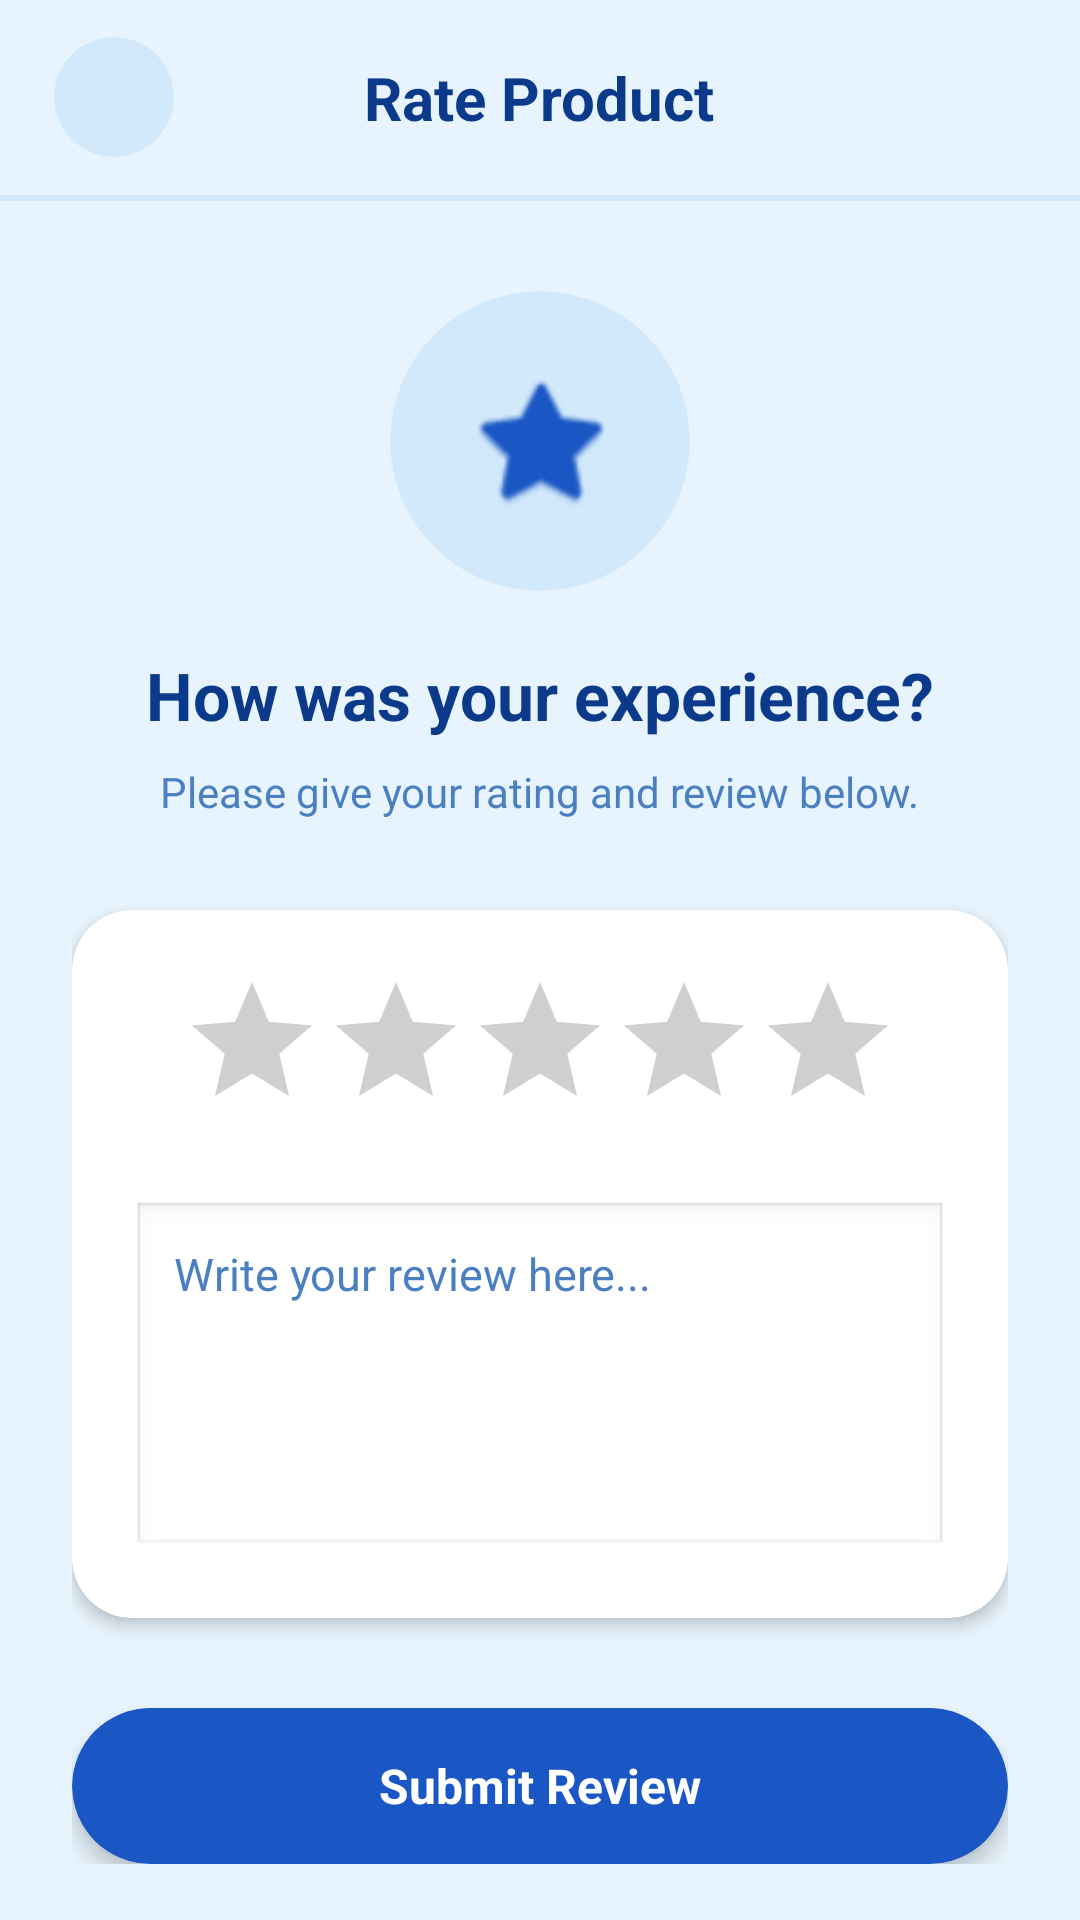

Icon bounding boxes for this 1080px x 1920px phone screenshot, format (x1, y1, x2, y2):
star on: (479, 382, 604, 503)
